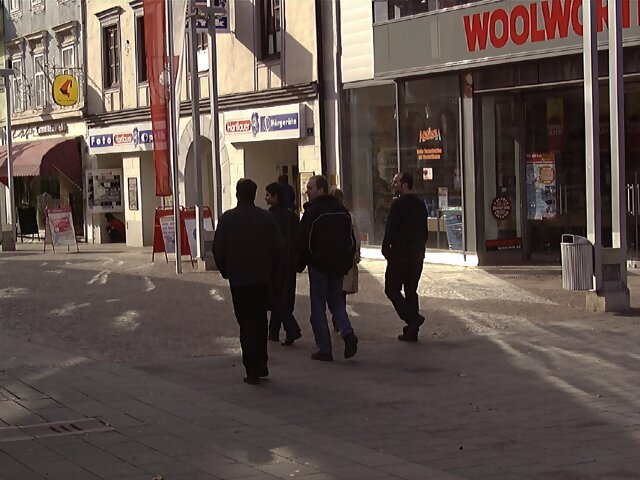person: (294, 174, 371, 365), (213, 176, 282, 387), (384, 165, 438, 344)
